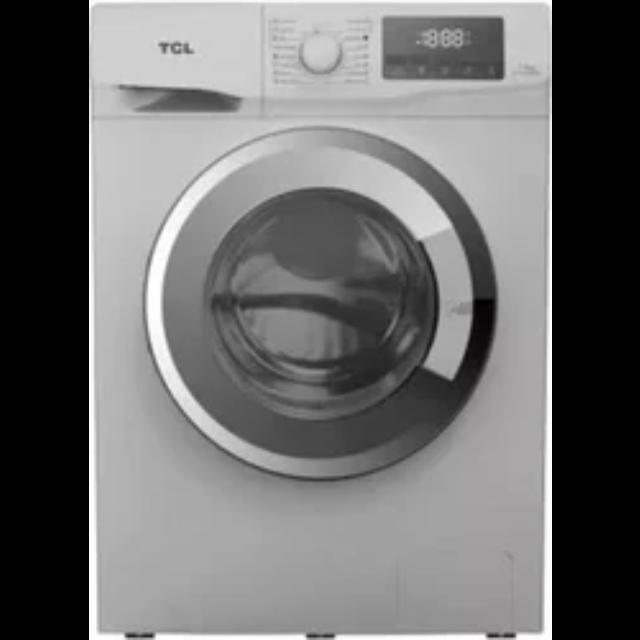Washing-Machine: (88, 4, 546, 632)
